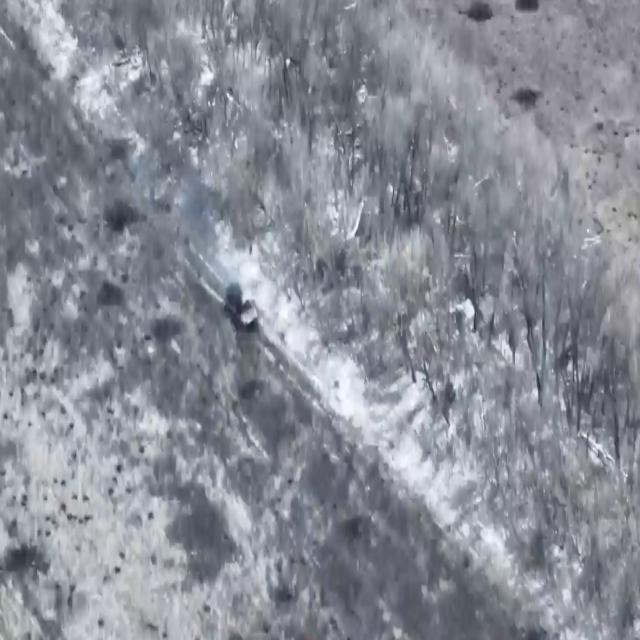vehicle: (222, 277, 260, 332)
